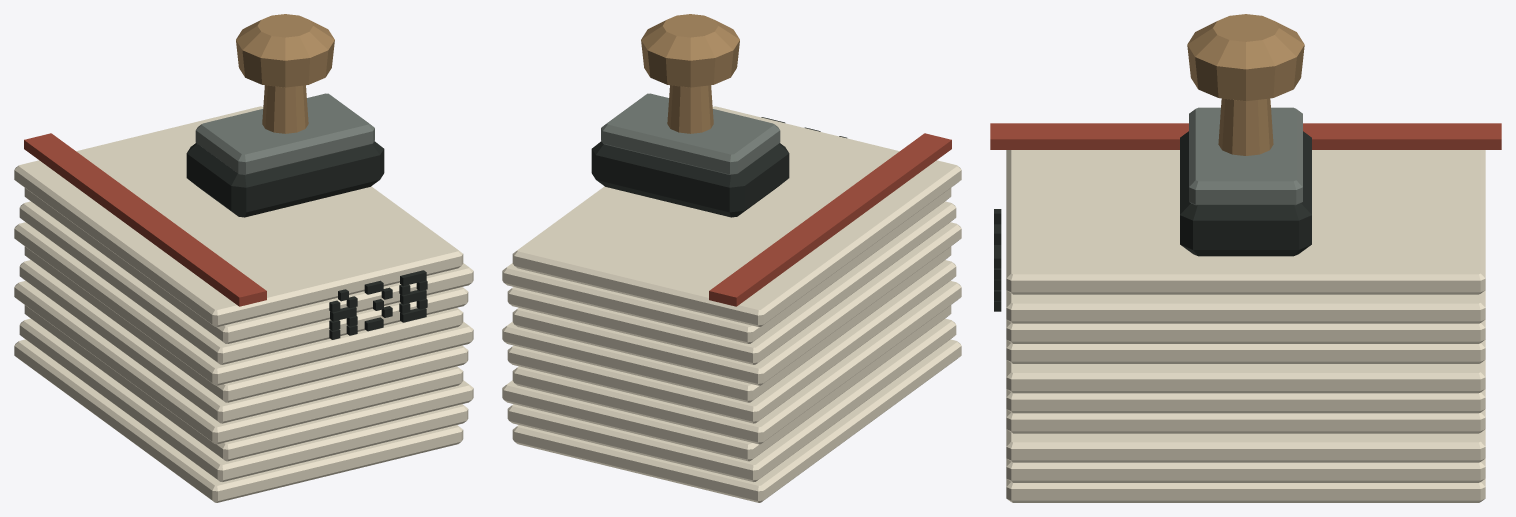
The model's file is form-stack.glb.
3 renders of one model, left to right at view 1: azimuth 30°, elevation 25°; view 2: azimuth 150°, elevation 25°; view 3: azimuth 270°, elevation 25°, orthographic. The views are drawn at different scales.
Parts seen in each view (by area): view 1: form-stack; view 2: form-stack; view 3: form-stack.
Boxes of the visible parts, left/top/right/bottom form: form-stack: left=14, top=14, right=473, bottom=502; form-stack: left=502, top=14, right=961, bottom=502; form-stack: left=990, top=14, right=1501, bottom=502.
Bounding box in the file's own units: 0.448 × 0.5962 × 0.64.
